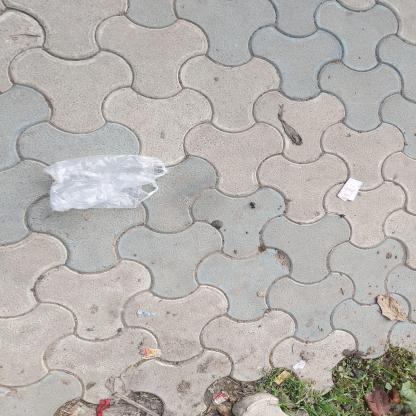Normal paper: (337, 178, 362, 201)
Other carton: (140, 348, 162, 360), (292, 360, 305, 370)
Other plastic: (274, 370, 291, 385), (213, 391, 230, 405)
Single-use carrier bag: (42, 154, 169, 212)
Unlabeled litter: (137, 310, 157, 317)
